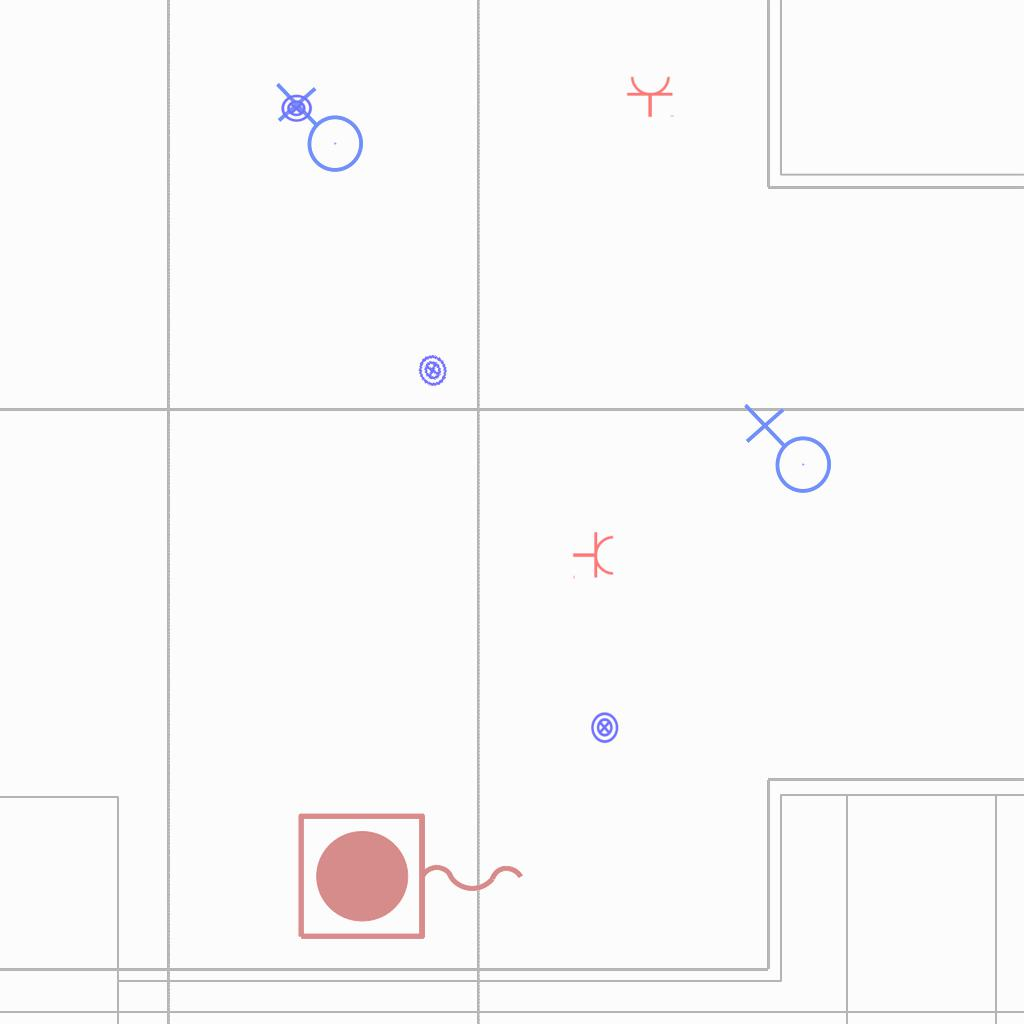Elektroanschluss_allgemein_230V_Geraeteanschlussdose_230V: (271, 82, 365, 181), (739, 403, 833, 502)
Schukosteckdose_einfach: (572, 531, 615, 581), (626, 75, 676, 118)
Taster_beleuchtet: (411, 349, 454, 392), (588, 711, 621, 744), (280, 92, 313, 125)
Zugtaster: (290, 806, 534, 950)
